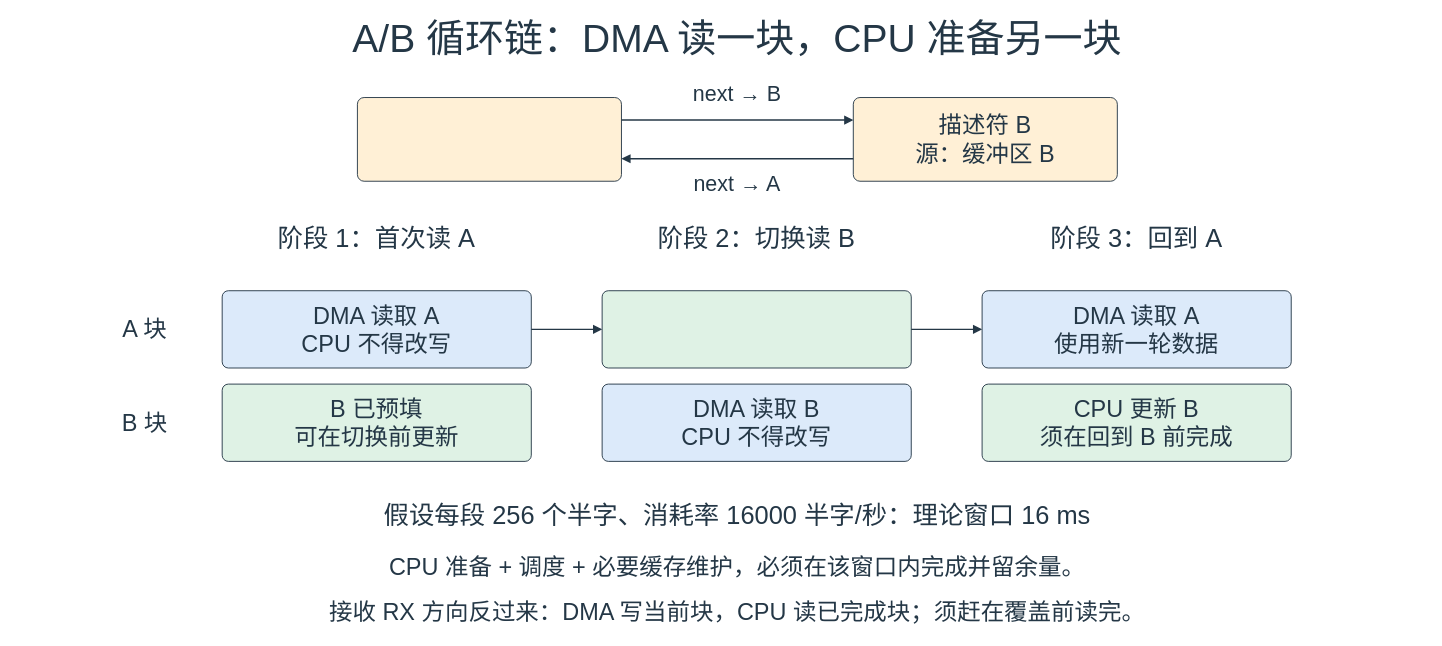
The diagram is 1442 pixels wide and 646 high, and some of its shapes have lost their labels. The centre of each missing label's shape, as x and y in pixels:
CPU 更新 A 须在回到 A 前完成: (756,329)
描述符 A 源：缓冲区 A: (488,139)
